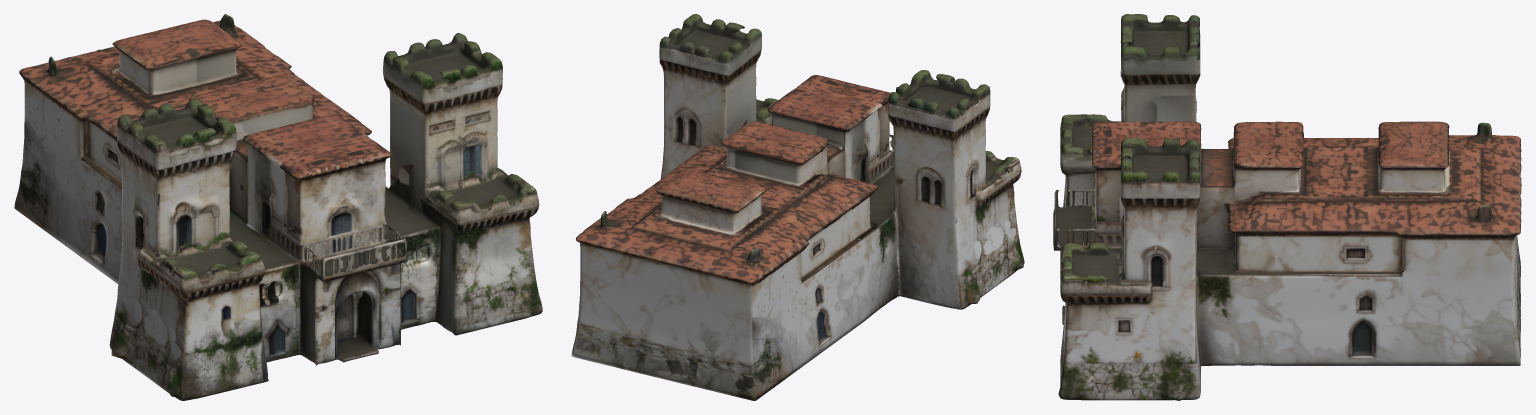
File: ancient_building_lev2.glb
3 renders of one model, left to right at view 1: azimuth 30°, elevation 25°; view 2: azimuth 150°, elevation 25°; view 3: azimuth 270°, elevation 25°, orthographic. The views are drawn at different scales.
Visible parts, largest first — view 1: model_0.004; view 2: model_0.004; view 3: model_0.004.
Part boxes in pixels (left/top/right/bottom): model_0.004: left=14, top=14, right=542, bottom=400; model_0.004: left=571, top=14, right=1024, bottom=400; model_0.004: left=1053, top=14, right=1521, bottom=400.
Bounding box in the file's own units: 52.28 × 31.03 × 58.97.
Materials: 1 (1 with a texture image).
